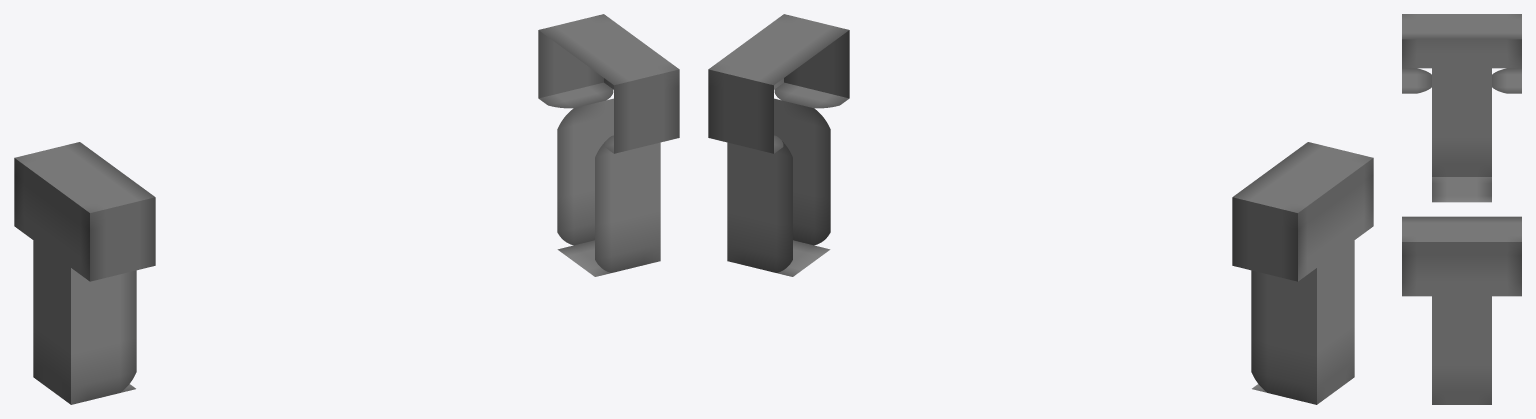
Rendered from crane_lift.obj.
3 views of the same model, side by side, from view 1: azimuth 30°, elevation 25°; view 2: azimuth 150°, elevation 25°; view 3: azimuth 270°, elevation 25° (orthographic). The views are drawn at different scales.
Visible parts, largest first — view 1: Lift; view 2: Lift; view 3: Lift.
Boxes of the visible parts, bbox=[...] form: Lift: bbox=[14, 14, 679, 404]; Lift: bbox=[708, 14, 1373, 404]; Lift: bbox=[1402, 14, 1521, 404].
Bounding box in the file's own units: 1.12 × 0.375 × 0.25.
